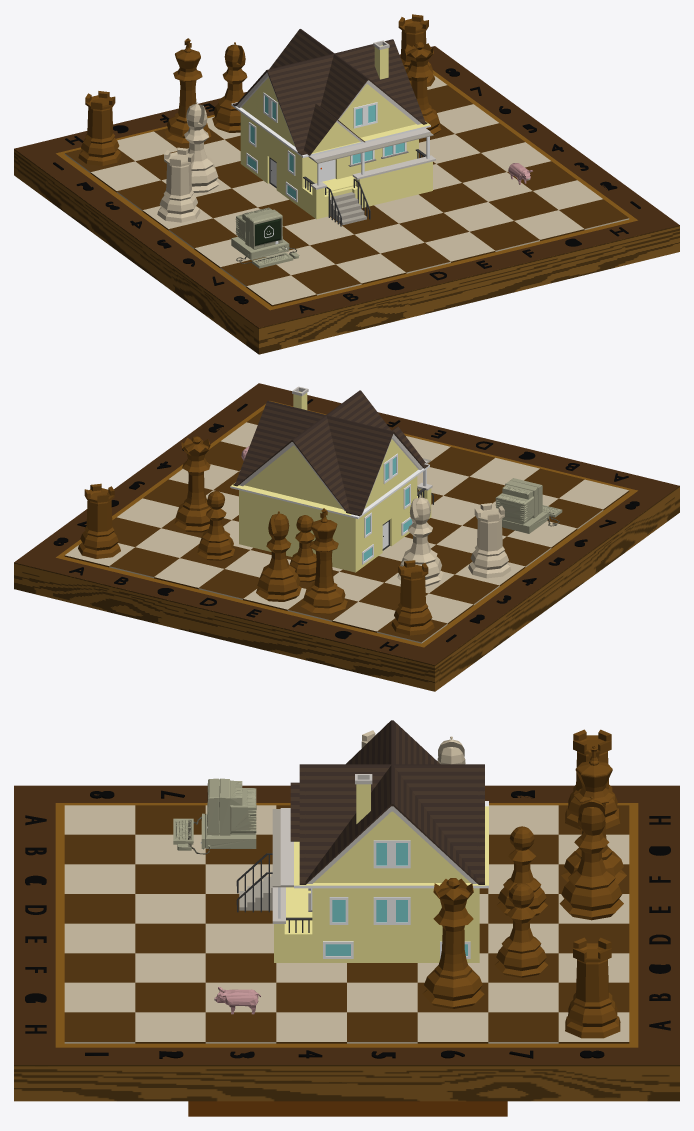
3 renders of one model, top to bottom at view 1: azimuth 30°, elevation 25°; view 2: azimuth 150°, elevation 25°; view 3: azimuth 270°, elevation 25°, orthographic. The views are drawn at different scales.
Parts seen in each view (by area): view 1: Cube.002, Cube.1555, OBJRANDOM_RETRO_PC; view 2: Cube.002, Cube.1555, OBJRANDOM_RETRO_PC; view 3: Cube.002, Cube.1555, UNDERGROUND_ART_PIECE_VAN_GOGH, OBJRANDOM_RETRO_PC, ANIMAL_CERDO.
Boxes of the visible parts, x1,y1,x2,y2 form: Cube.002: (14, 14, 679, 354); Cube.1555: (231, 29, 435, 226); OBJRANDOM_RETRO_PC: (231, 207, 299, 268); Cube.002: (14, 383, 679, 691); Cube.1555: (230, 386, 433, 572); OBJRANDOM_RETRO_PC: (495, 478, 562, 533); Cube.002: (14, 729, 679, 1101); Cube.1555: (236, 720, 488, 962); UNDERGROUND_ART_PIECE_VAN_GOGH: (188, 1101, 507, 1116); OBJRANDOM_RETRO_PC: (173, 778, 256, 854); ANIMAL_CERDO: (214, 987, 260, 1014).
Size of the model in its own units: 3981 by 1608 by 4012.
30 materials, 3 textured.
